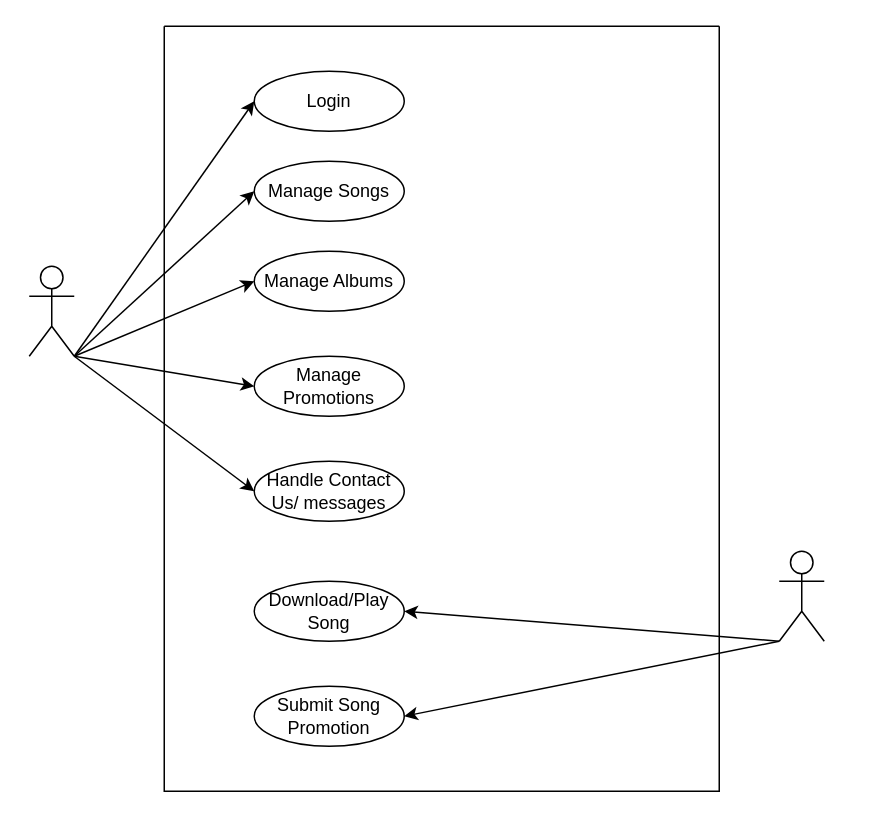
This 884x818 diagram has some shape labels left out. The centre of each missing label's shape, as x and y in pixels:
"Admin" belongs at point (51, 310).
"Dj/User/Guest" belongs at point (801, 595).
